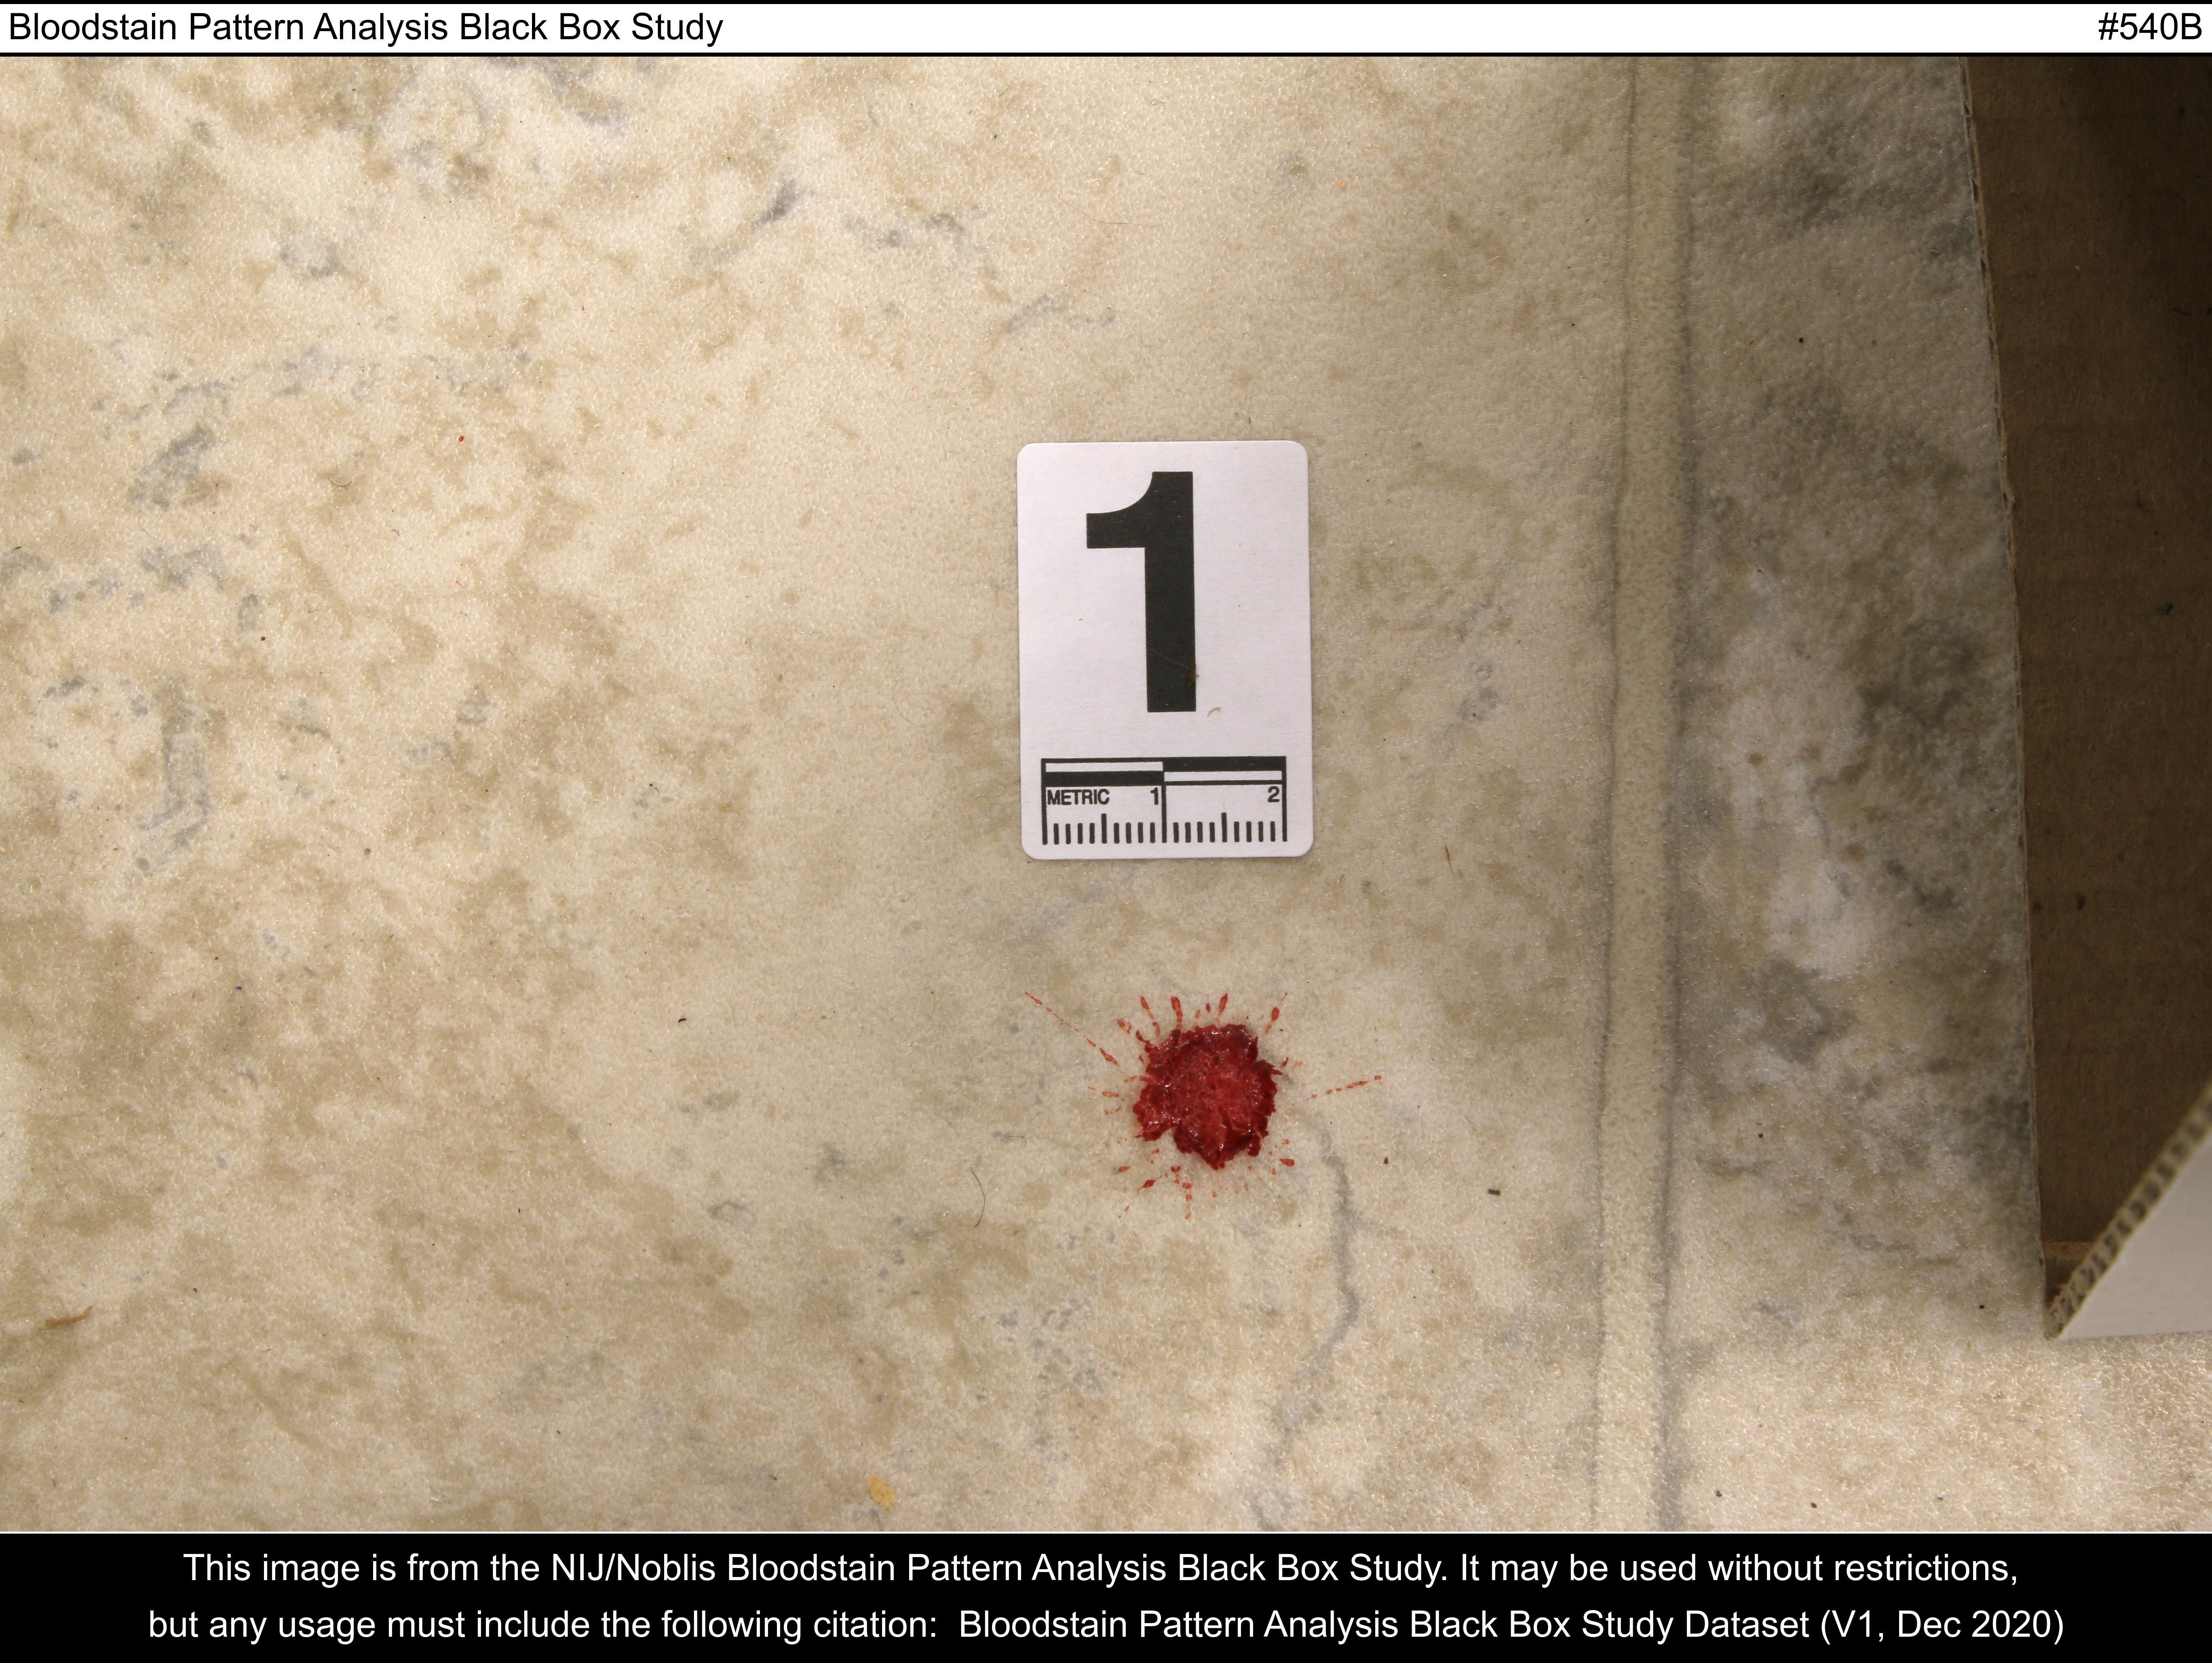Passive: (1000, 978, 1432, 1242)
